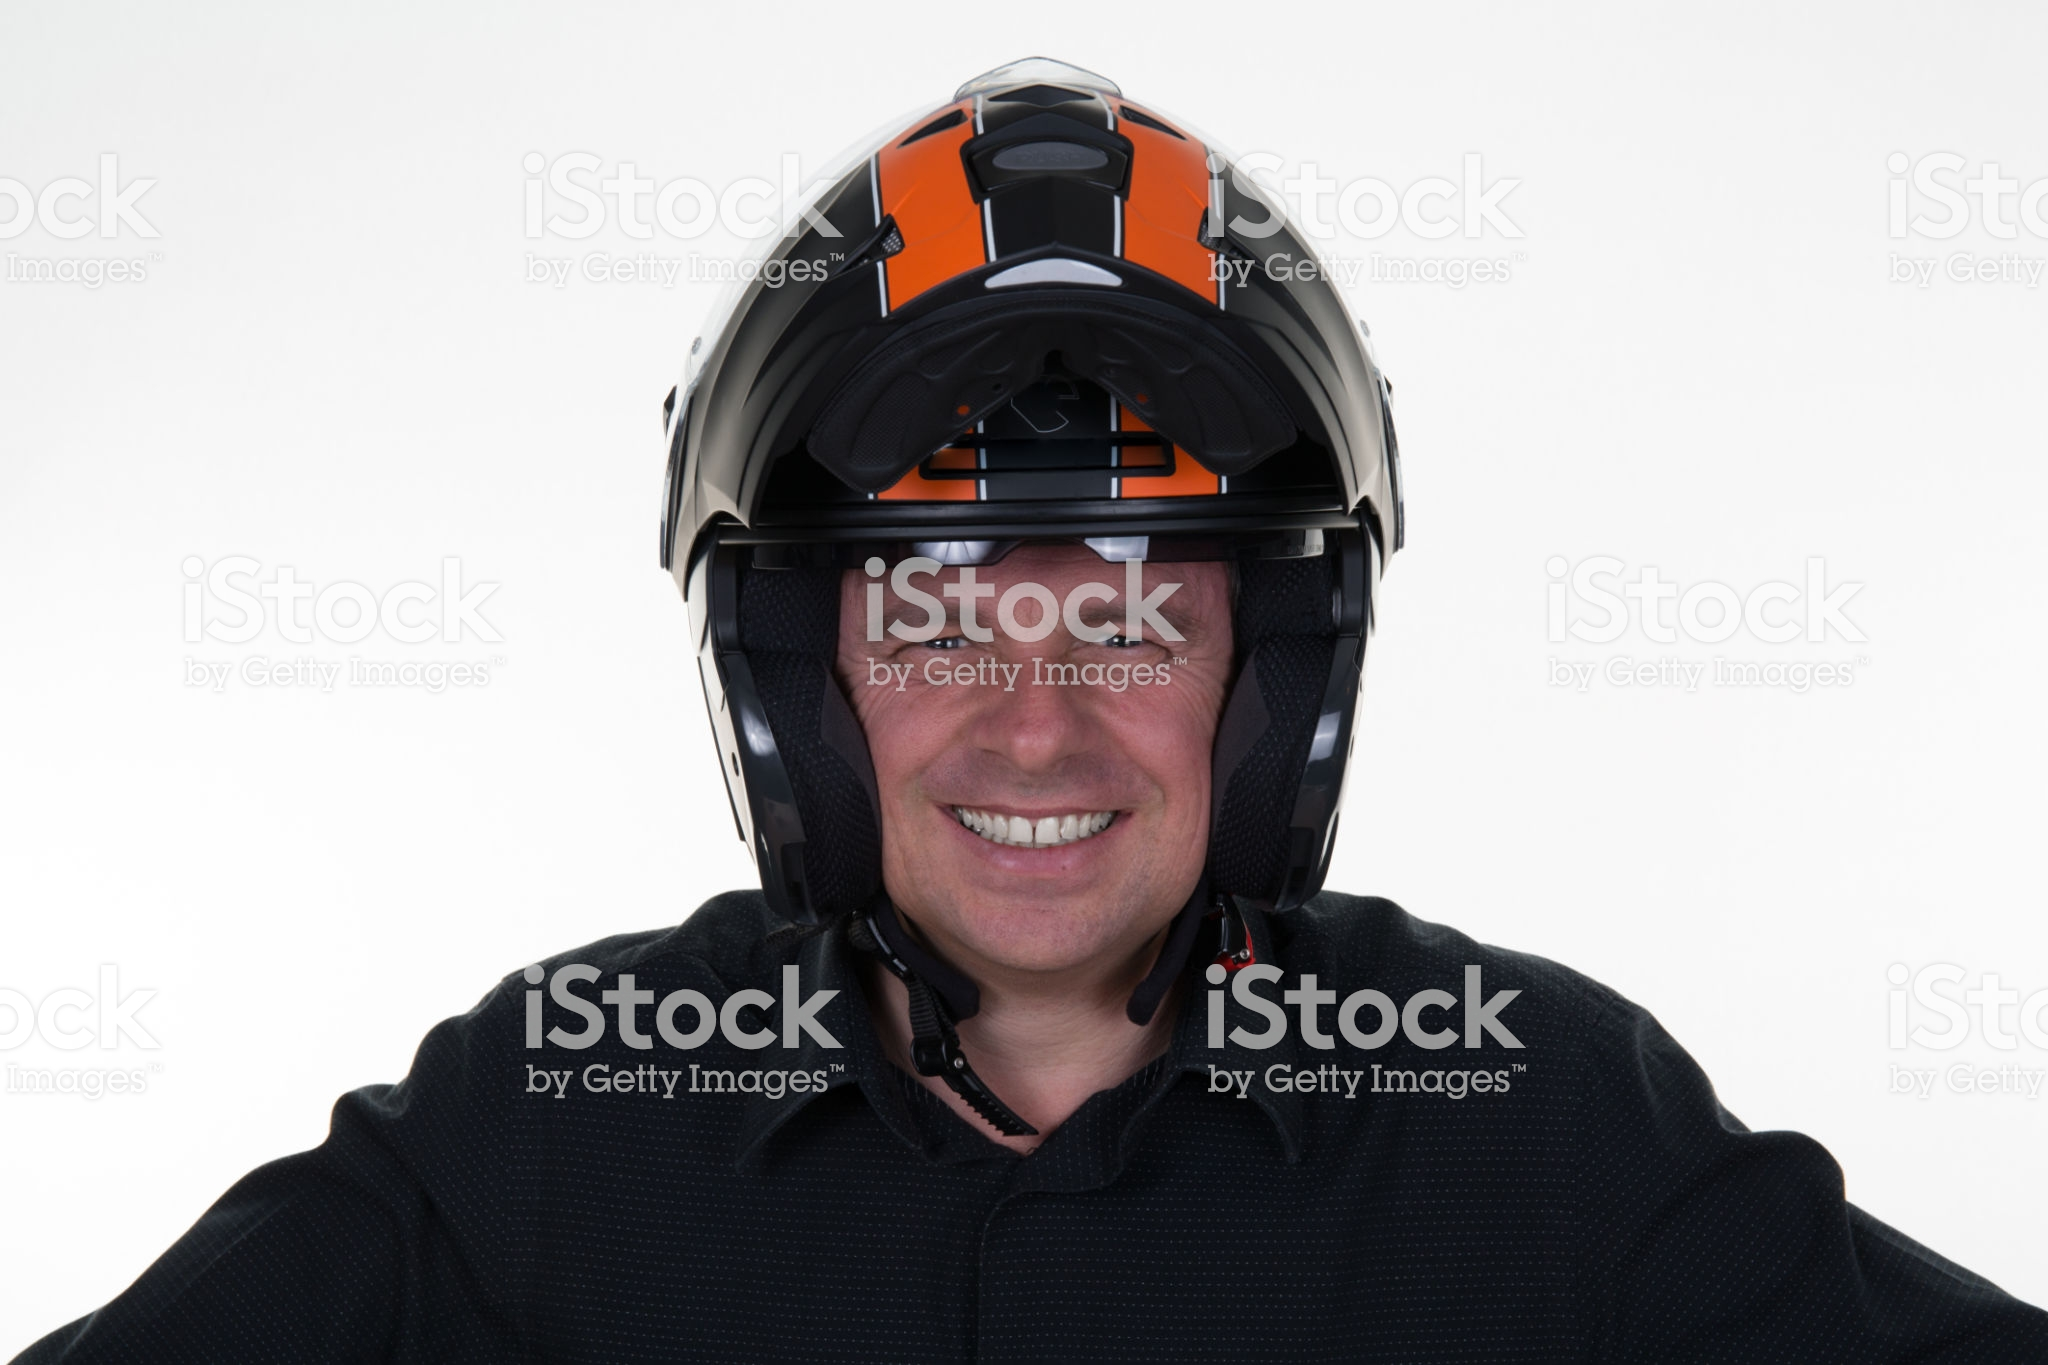helmet: (662, 139, 1381, 926)
